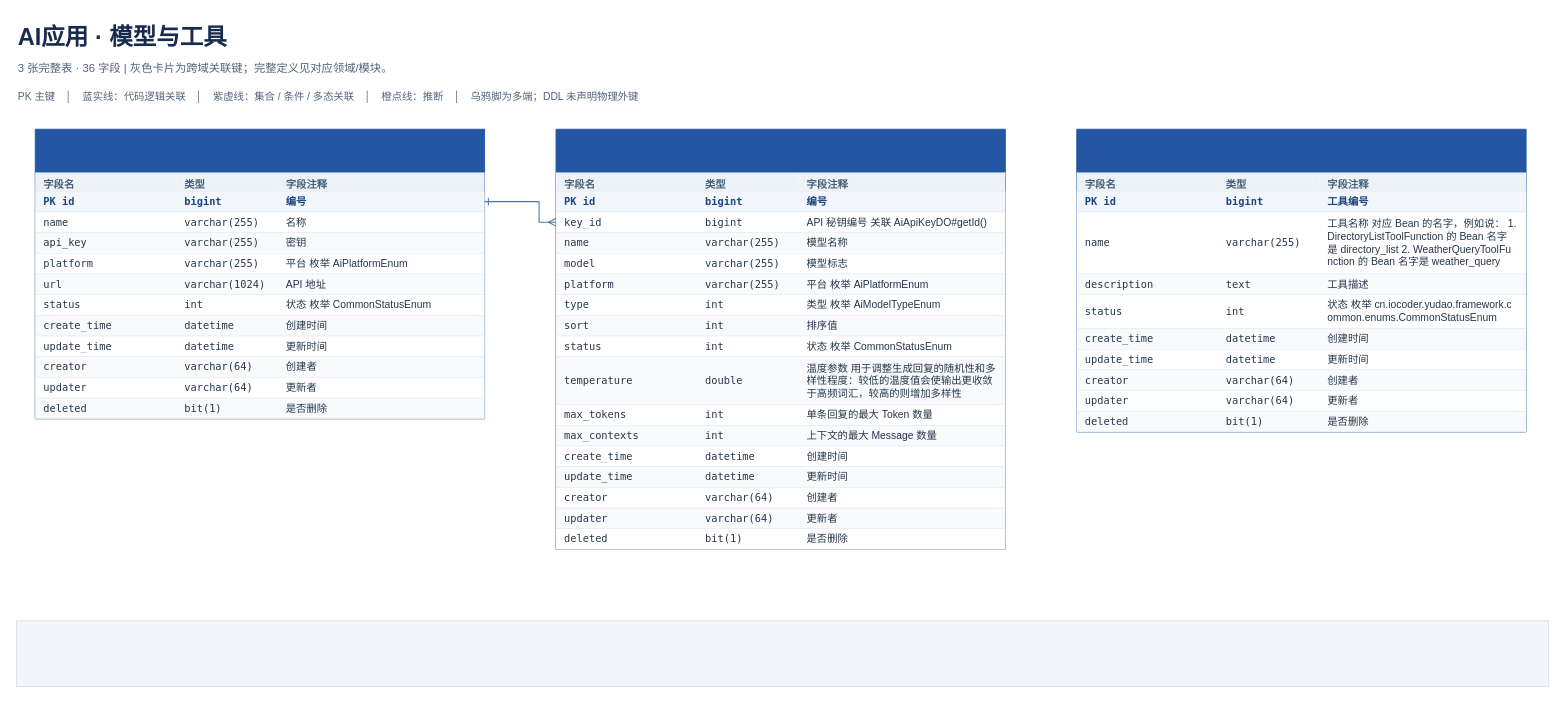
This 1565x703 diagram has some shape labels left out. The shapes that lost their labels are listed below. From the top down, each one's box as (x1, y1, x2, y2) in pixels, then its label:
(34, 128, 485, 419): ai_api_key AI API 秘钥 DO
(1076, 128, 1526, 432): ai_tool AI 工具 DO
(555, 128, 1005, 549): ai_model AI 模型 DO 默认模型：#status 为开启，并且 #sort 排序第一
(16, 620, 1549, 687): DDL：sql/mysql/ai.sql。字段类型包含源码推断；所有连线是代码关系，不能视为数据库已强制执行的外键。
